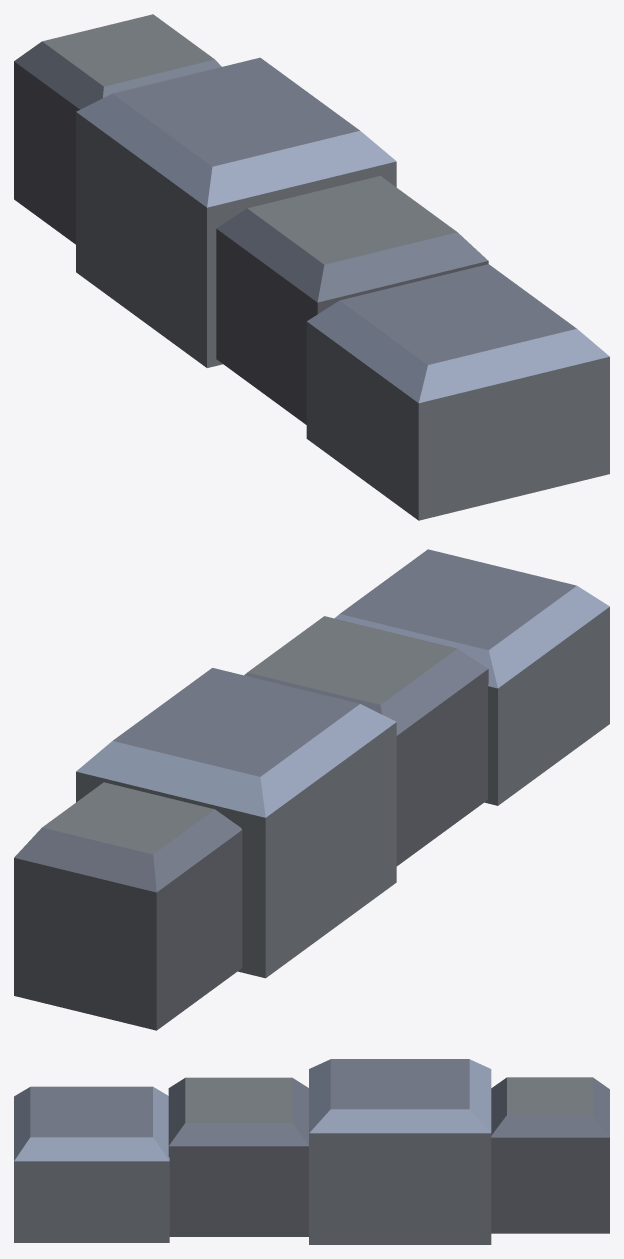
The model's file is Wall_acc.FBX.
3 views of the same model, one above another, from view 1: azimuth 30°, elevation 25°; view 2: azimuth 150°, elevation 25°; view 3: azimuth 270°, elevation 25° (orthographic). The views are drawn at different scales.
Parts seen in each view (by area): view 1: wall_acc; view 2: wall_acc; view 3: wall_acc.
Boxes of the visible parts, <box> form: wall_acc: <box>14,14,609,520</box>; wall_acc: <box>14,549,609,1030</box>; wall_acc: <box>14,1059,609,1244</box>.
Bounding box in the file's own units: 26.05 × 24.07 × 101.
